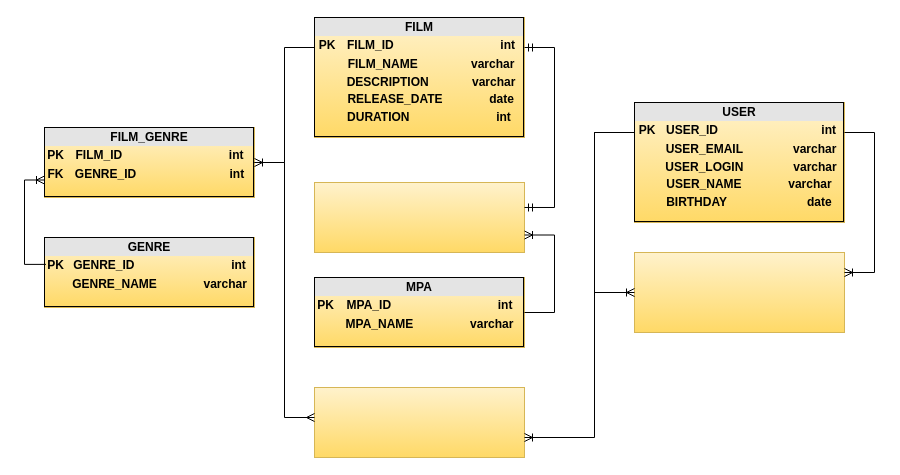
Some shapes in this 900 by 475 pixel diagram are drawn without their labels. The shapes that lost their labels are listed below. From the top down, each one's centre as x and y in pixels, then its label:
At pixel 419 217: "FILM_MPA PK FILM_ID int FK MPA_ID int".
At pixel 739 292: "FRIENDS PK USER_ID int FK FRIEND_ID int FRIEND_STATUS varchar".
At pixel 419 422: "LIKES PK FILM_ID int FK USER_ID int".
